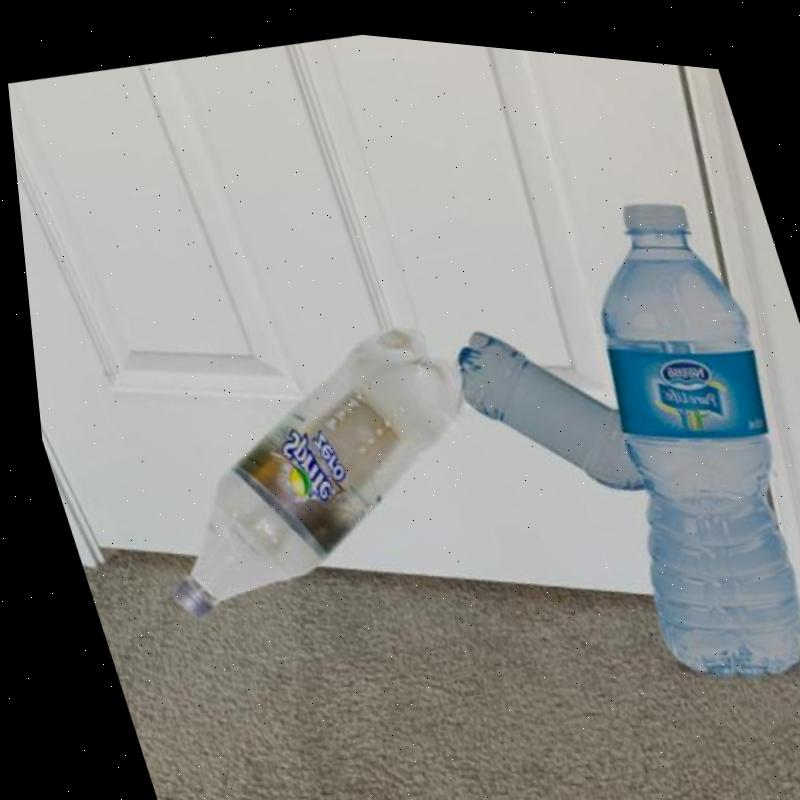botella: (84, 286, 515, 645), (516, 162, 800, 690), (426, 291, 638, 512)
